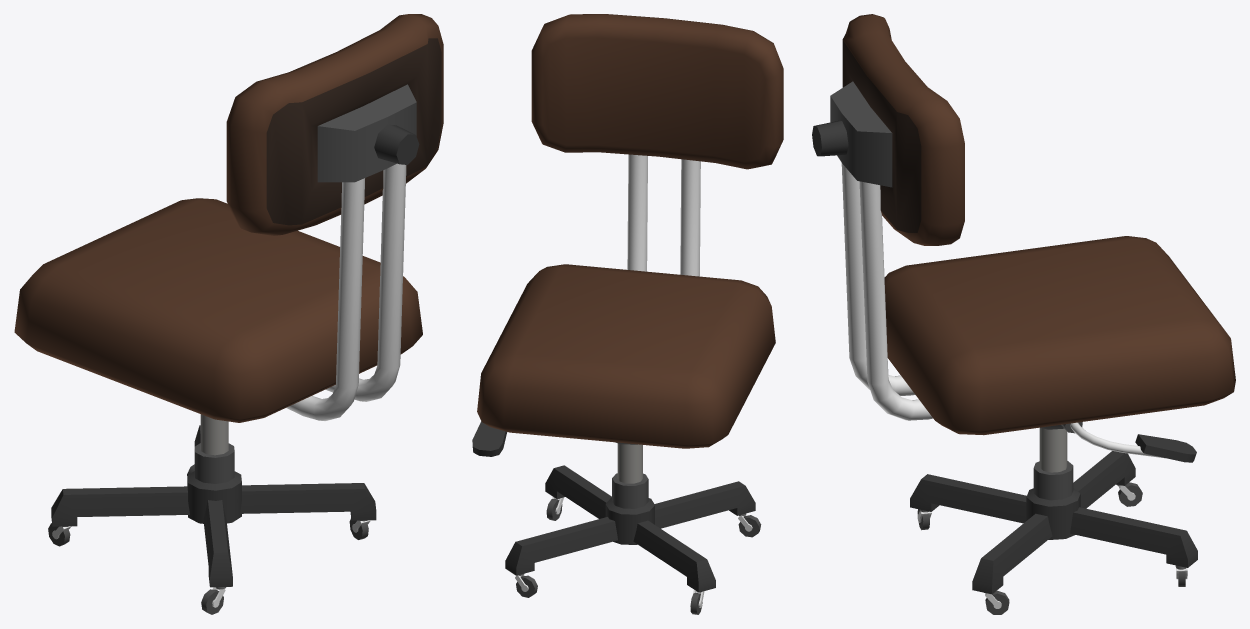
Rendered from officeChair.glb.
The picture shows the model from 3 angles, left to right: view 1: azimuth 30°, elevation 25°; view 2: azimuth 150°, elevation 25°; view 3: azimuth 270°, elevation 25°; orthographic projection. The views are drawn at different scales.
Parts seen in each view (by area): view 1: Cube.004_1; view 2: Cube.004_1; view 3: Cube.004_1.
Boxes of the visible parts, bbox=[...] form: Cube.004_1: bbox=[14, 14, 443, 614]; Cube.004_1: bbox=[472, 14, 783, 614]; Cube.004_1: bbox=[812, 14, 1235, 614].
Bounding box in the file's own units: 0.8546 × 1.41 × 1.03.
